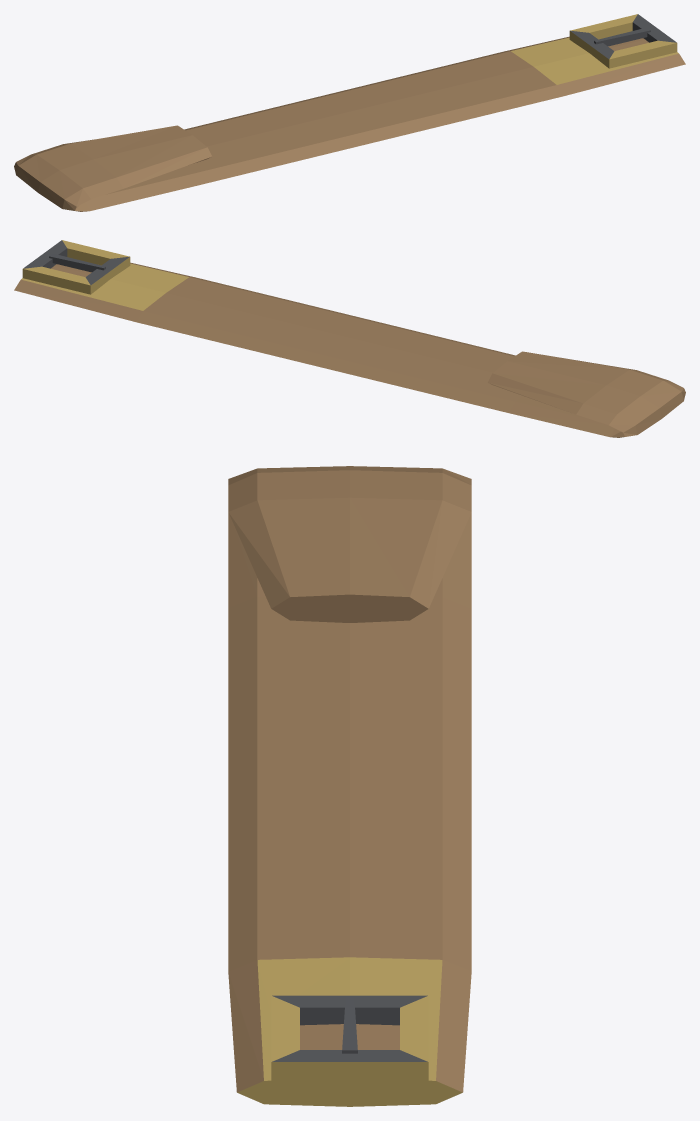
Rendered from leather_strap.glb.
3 views of the same model, one above another, from view 1: azimuth 30°, elevation 25°; view 2: azimuth 150°, elevation 25°; view 3: azimuth 270°, elevation 25° (orthographic). The views are drawn at different scales.
Parts seen in each view (by area): view 1: leather_strap; view 2: leather_strap; view 3: leather_strap.
Boxes of the visible parts, x1,y1,x2,y2 form: leather_strap: (14, 14, 685, 211); leather_strap: (14, 240, 685, 437); leather_strap: (228, 466, 471, 1106).
Bounding box in the file's own units: 0.2 × 0.00901 × 0.034.
